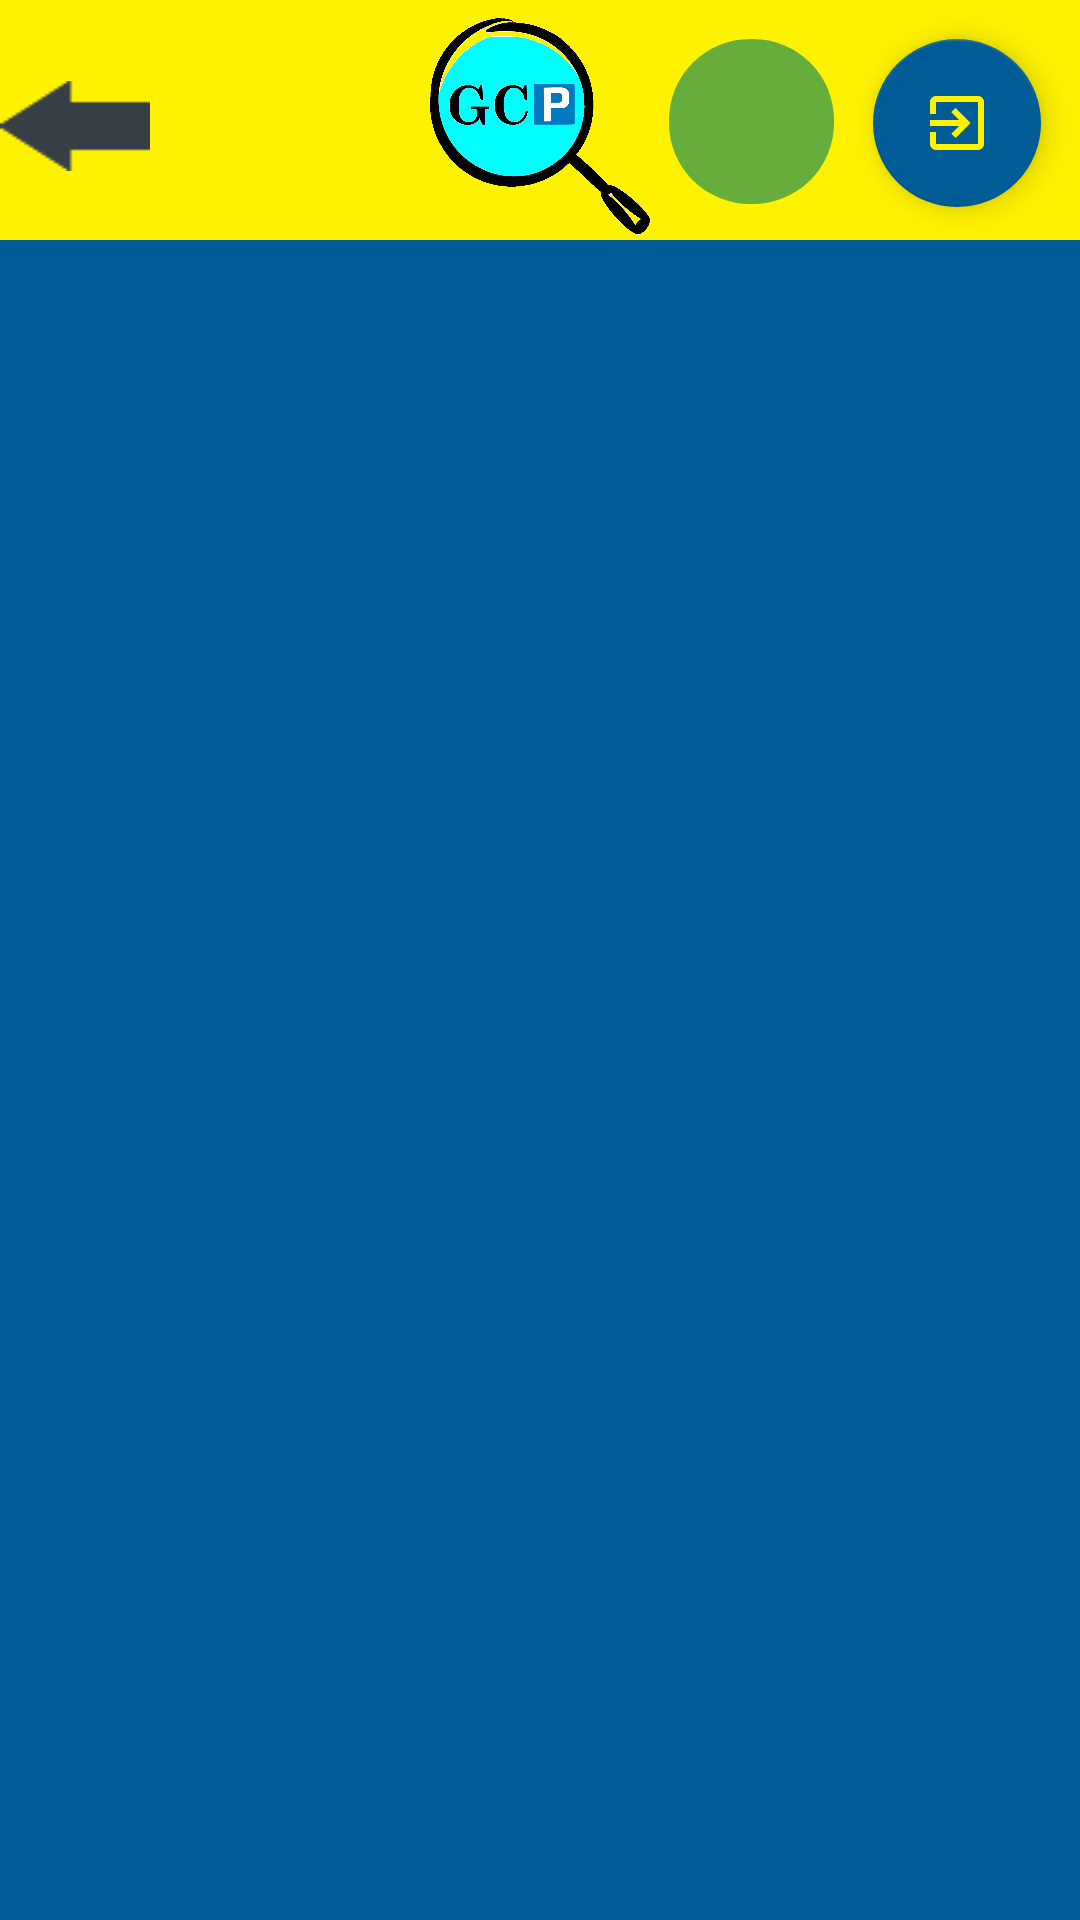

Where to tap for icons on this 1080x1920 app screen, as point (x, y):
back: point (75, 126)
exit: point (957, 123)
